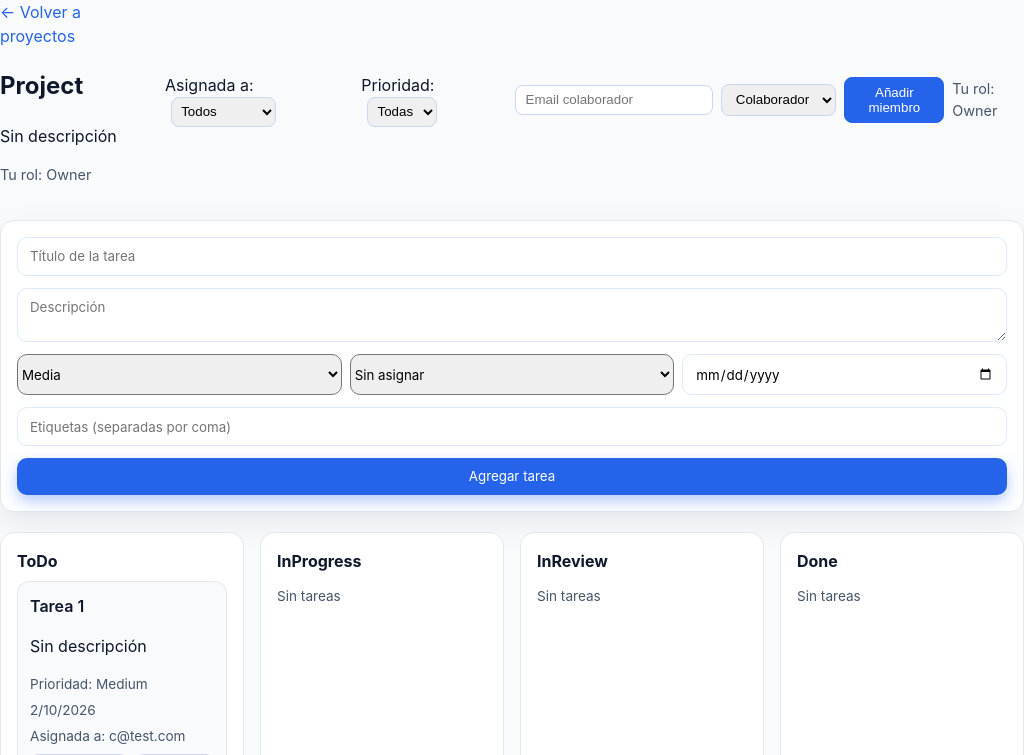
ProjectBoardPage › muestra tareas por columnas y filtra por asignado
Expected: the heading "Tarea 1" is shown, top-left (30, 596), bottom-right (84, 616)
Select "o@test.com" in the dropdown labelled "Asignada a:": (223, 112) top-left (171, 97), bottom-right (276, 127)
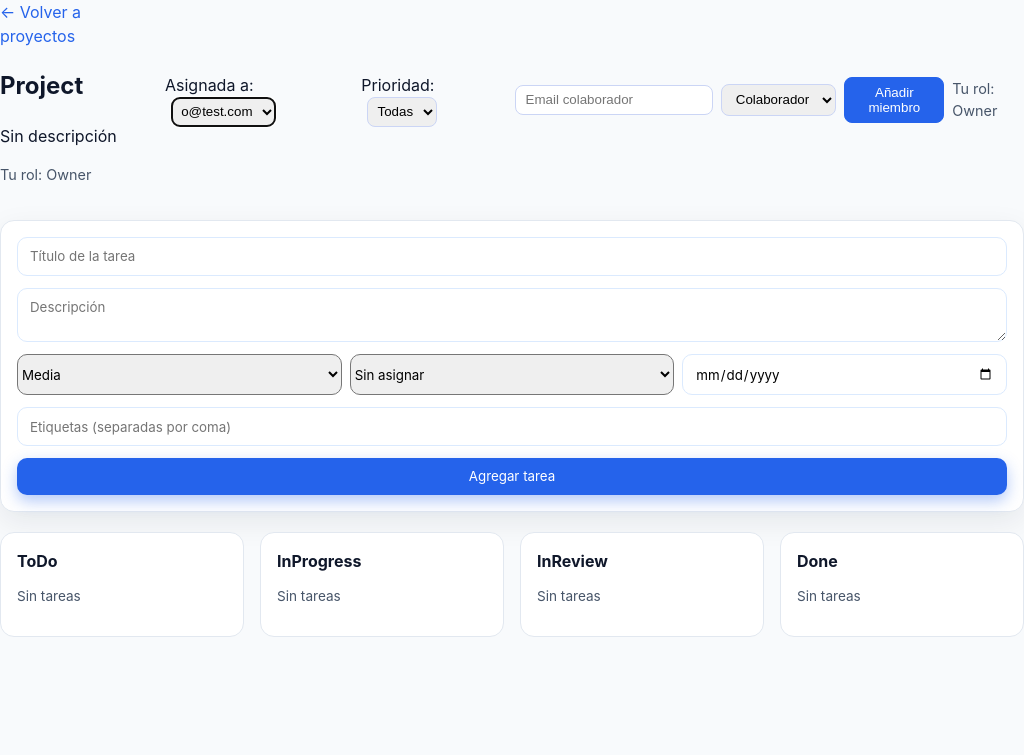
Result: the heading "Tarea 1" is gone
